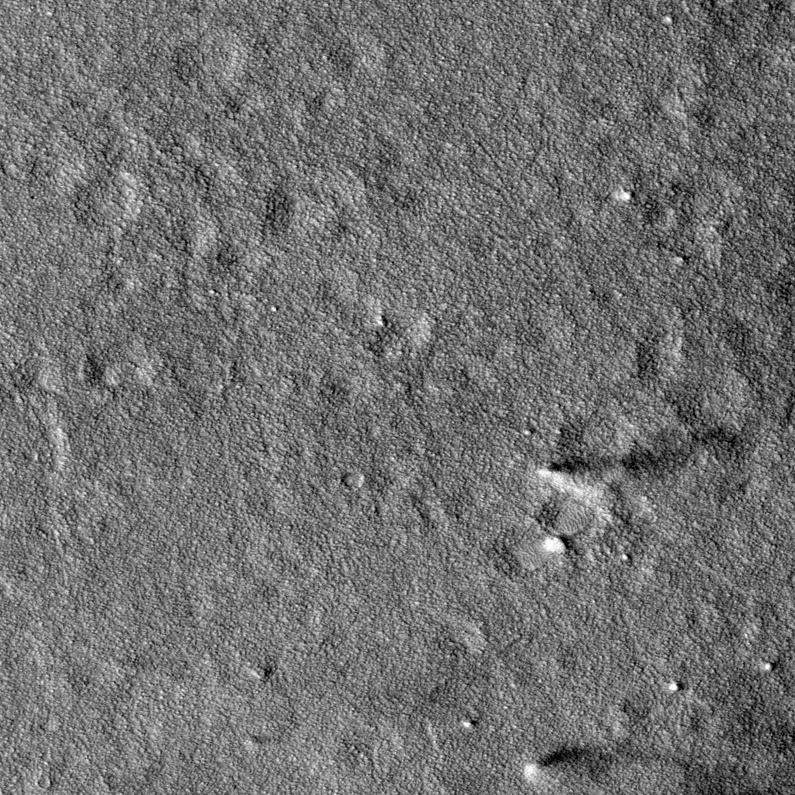dust_devil: (534, 425, 740, 522), (521, 733, 647, 787)
